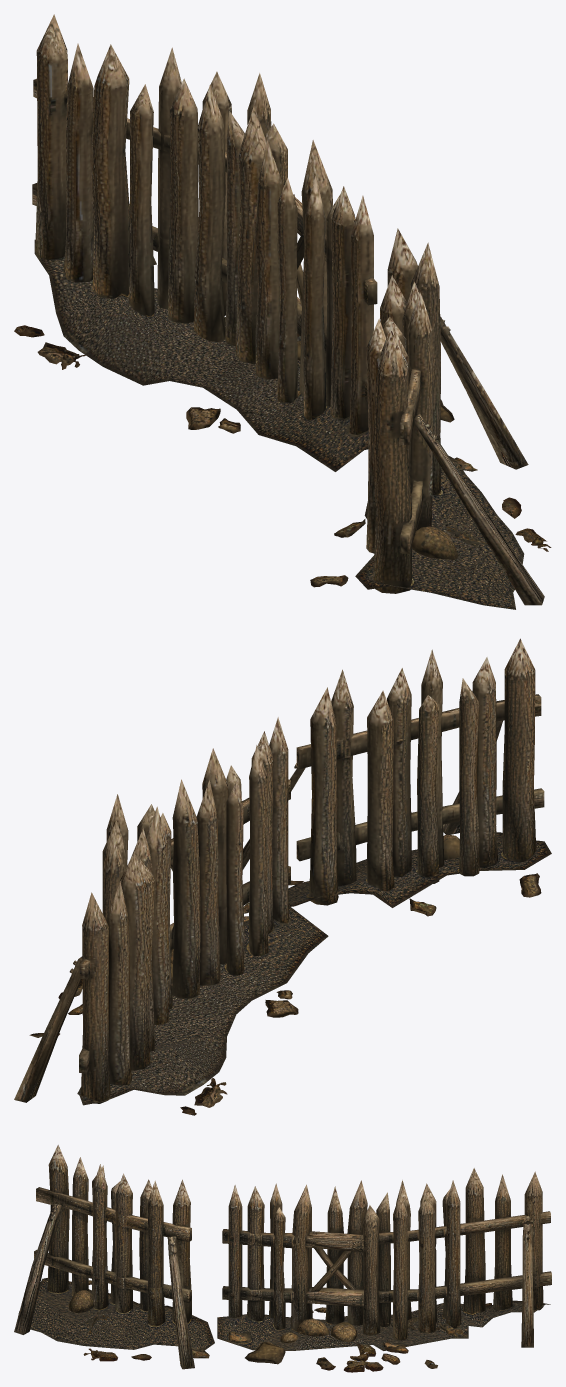
The model's file is wooden+fence+3d+model.fbx.
3 renders of one model, top to bottom at view 1: azimuth 30°, elevation 25°; view 2: azimuth 150°, elevation 25°; view 3: azimuth 270°, elevation 25°, orthographic. The views are drawn at different scales.
Parts seen in each view (by area): view 1: meshes[0]; view 2: meshes[0]; view 3: meshes[0].
Part boxes in pixels (<box>): meshes[0]: <box>14,14,551,609</box>; meshes[0]: <box>14,638,551,1115</box>; meshes[0]: <box>14,1145,551,1372</box>.
Size of the model in its own units: 0.377 by 0.334 by 0.998.
Materials: 1 (1 with a texture image).
